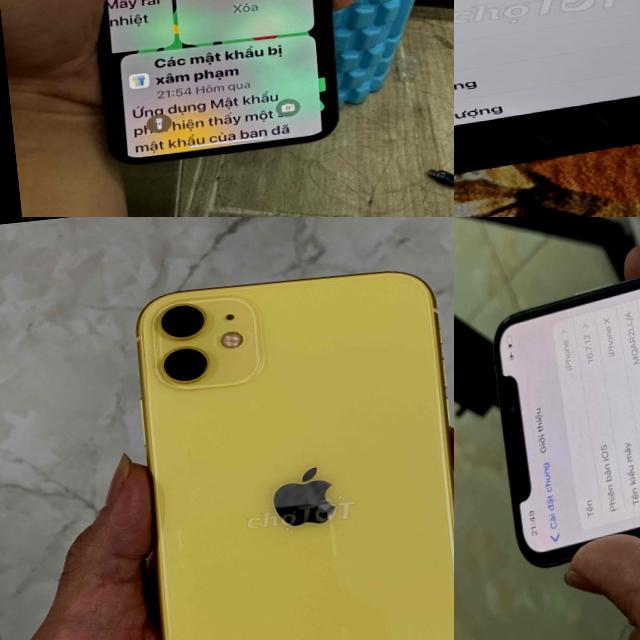gen_11: (53, 0, 357, 174)
gen_14: (123, 249, 454, 640)
gen_7_8: (454, 0, 640, 172)
gen_x_xs: (454, 217, 640, 600)
